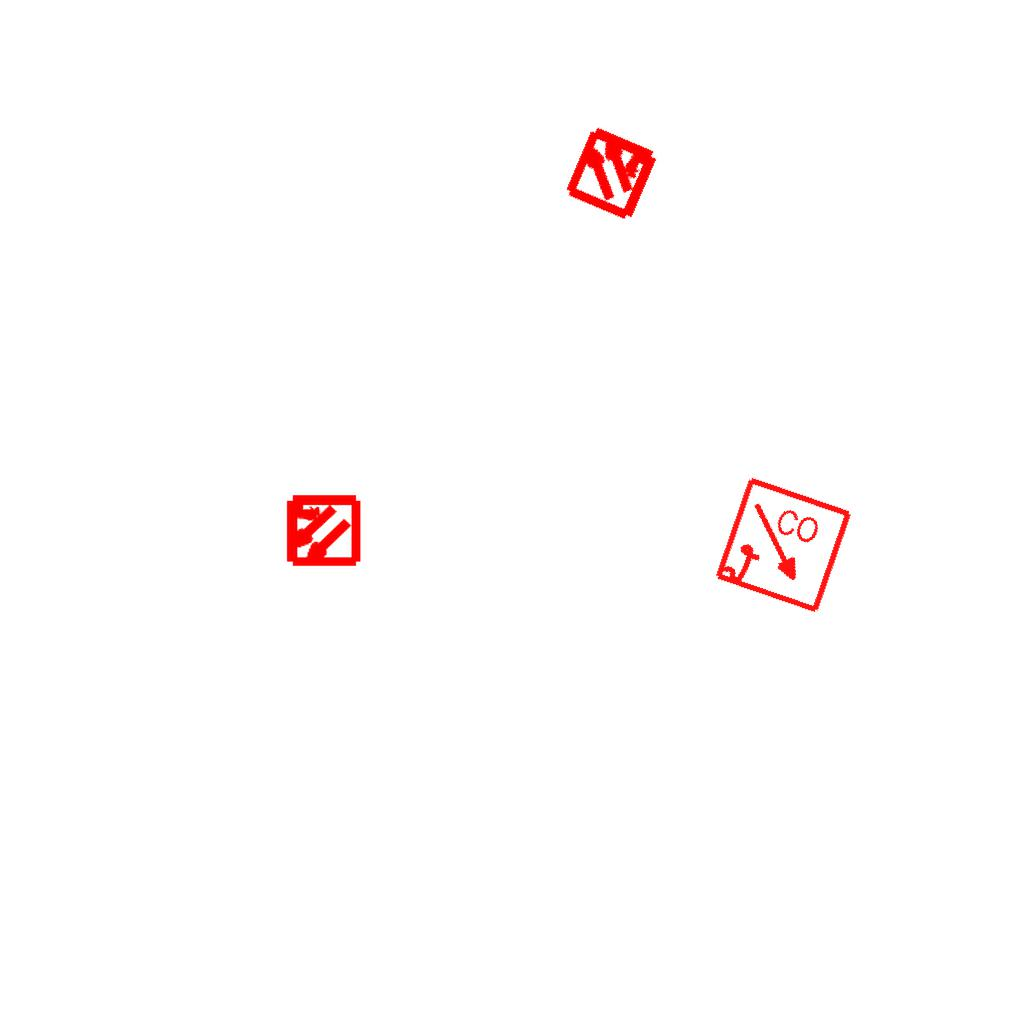OT_Multisensormelder_(Kombination_RMO_WMD): (538, 97, 687, 246), (265, 474, 378, 587)
ROA_Rauchmelder_optisch_mit_Signalgeber_(Sockelsirene): (711, 474, 856, 619)
